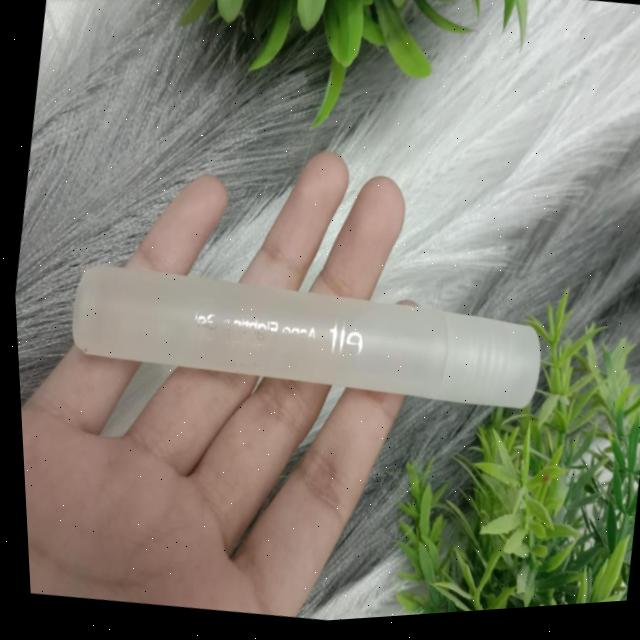gel: (48, 217, 568, 464)
